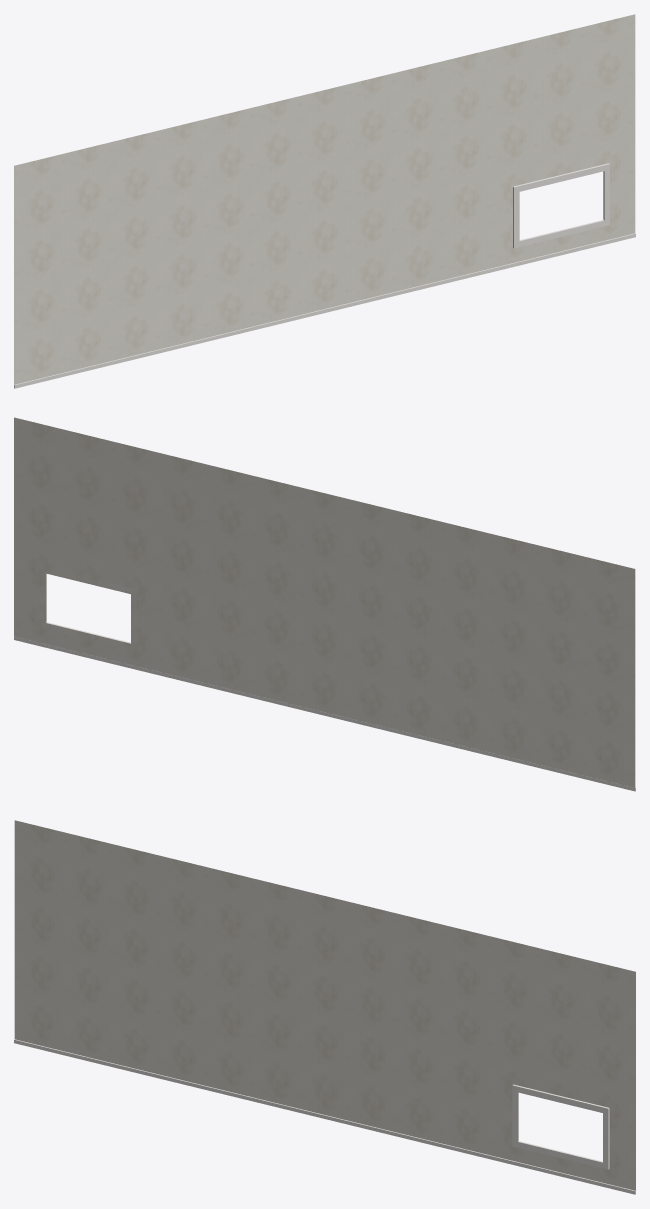
3 renders of one model, top to bottom at view 1: azimuth 30°, elevation 25°; view 2: azimuth 150°, elevation 25°; view 3: azimuth 330°, elevation 25°, orthographic.
Parts seen in each view (by area): view 1: jx_wm_26_fe044e7f; view 2: jx_wm_26_fe044e7f; view 3: jx_wm_26_fe044e7f.
Boxes of the visible parts, bbox=[...] form: jx_wm_26_fe044e7f: bbox=[14, 14, 635, 388]; jx_wm_26_fe044e7f: bbox=[14, 417, 635, 791]; jx_wm_26_fe044e7f: bbox=[14, 820, 635, 1194].
Bounding box in the file's own units: 26.3 × 9 × 0.086.
2 materials, 2 textured.
